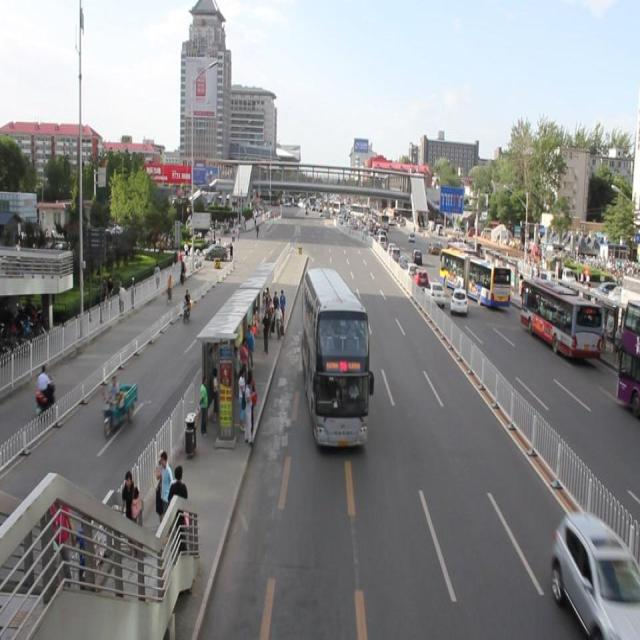car: (548, 512, 640, 640)
van: (298, 269, 374, 456)
